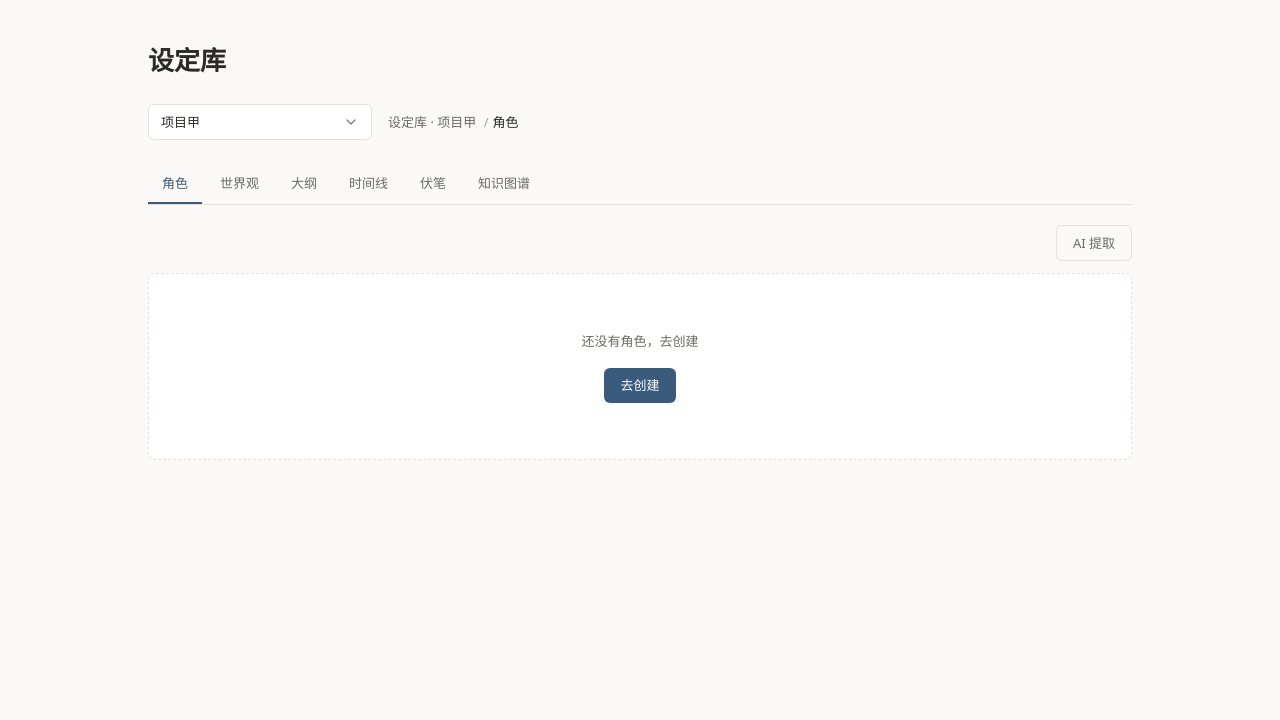
it: #1325 知识图谱连线与拖拽（specs/f48-knowledge-graph/spec.md §5.2/§5.4） › D 拉线：节点两侧锚点齐备，连线回调已接（上报父级 → 弹关系表单预填两端）
The image size is (1280, 720).
What coordinates should you click on to do the following:
click the tab "知识图谱"
I would click on:
 (504, 184)
Its box is [464,164,544,204].
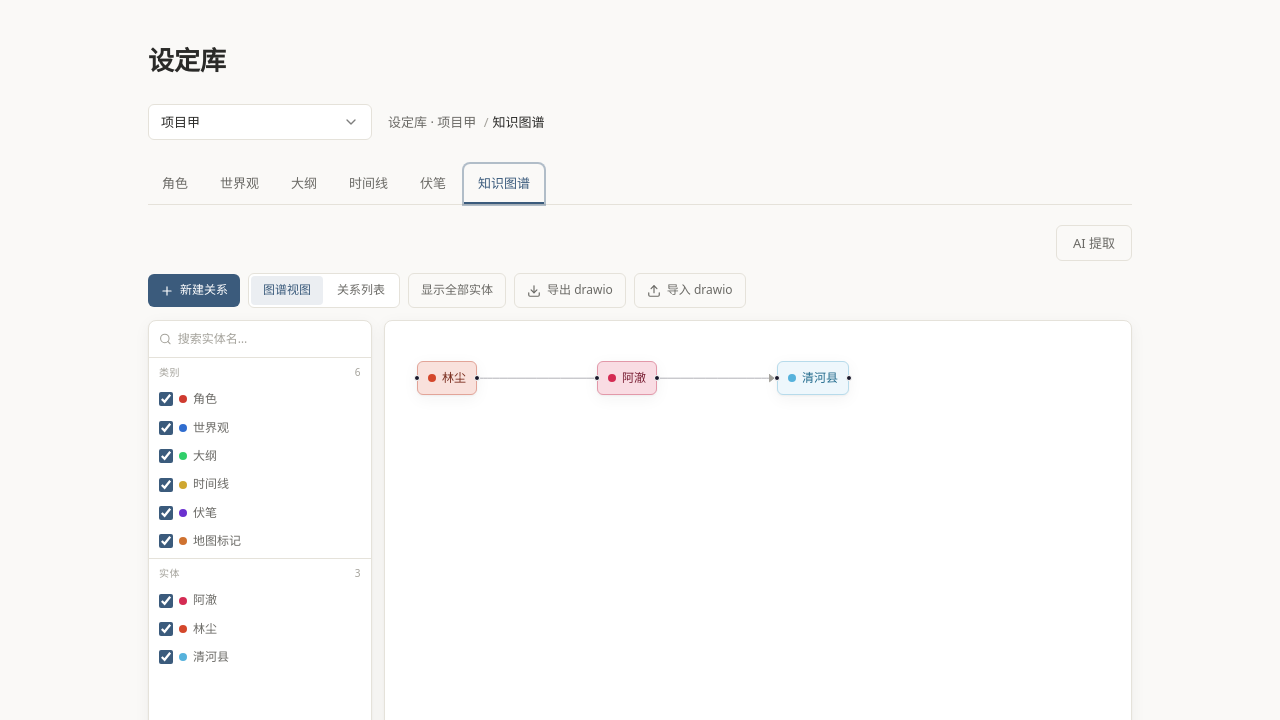
expect the element with test id "library-kg-canvas" shows "林尘": met, box [442,369,466,386]
expect the 1st element with class "react-flow__handle-right" is shown: met, box [474,375,480,381]
expect the 2nd element with class "react-flow__handle-left" is shown: met, box [594,375,600,381]
